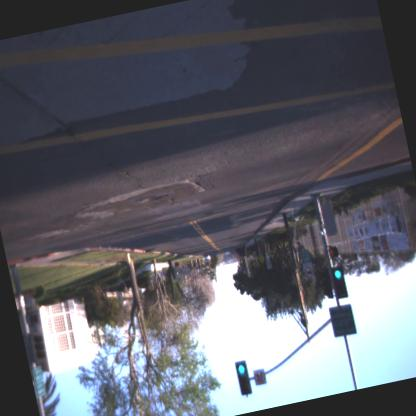trafficlight: (231, 357, 256, 401), (327, 260, 350, 302)
